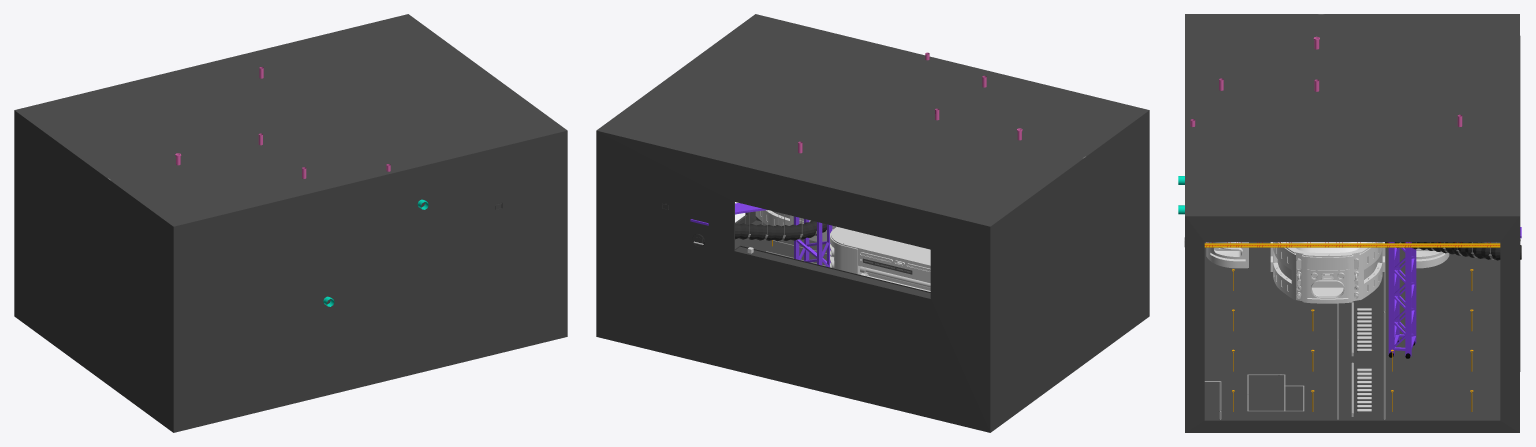
Rendered from Hangar3.fbx.
The picture shows the model from 3 angles, left to right: view 1: azimuth 30°, elevation 25°; view 2: azimuth 150°, elevation 25°; view 3: azimuth 270°, elevation 25°; orthographic projection. The views are drawn at different scales.
Visible parts, largest first — view 1: HangarBody; view 2: HangarBody, Ship, UmbilicalTemp, HangarViewingPlatform, UmbilicalCrane; view 3: HangarBody, Ship, UmbilicalCrane, Walkway.005, UmbilicalTemp, Table.002, Table, LightPole.
Boxes of the visible parts, <box> form: HangarBody: <box>14,14,567,432</box>; HangarBody: <box>596,14,1149,432</box>; Ship: <box>755,210,930,291</box>; UmbilicalTemp: <box>692,220,826,246</box>; HangarViewingPlatform: <box>735,245,930,298</box>; UmbilicalCrane: <box>690,203,832,267</box>; HangarBody: <box>1185,14,1520,432</box>; Ship: <box>1206,242,1449,303</box>; UmbilicalCrane: <box>1388,227,1521,358</box>; Walkway.005: <box>1204,242,1500,247</box>; UmbilicalTemp: <box>1385,242,1521,260</box>; Table.002: <box>1357,368,1371,412</box>; Table: <box>1357,308,1371,351</box>; LightPole: <box>1232,269,1473,411</box>.
Size of what is drawn, in the model's own units: 20079 by 10514 by 14382.
